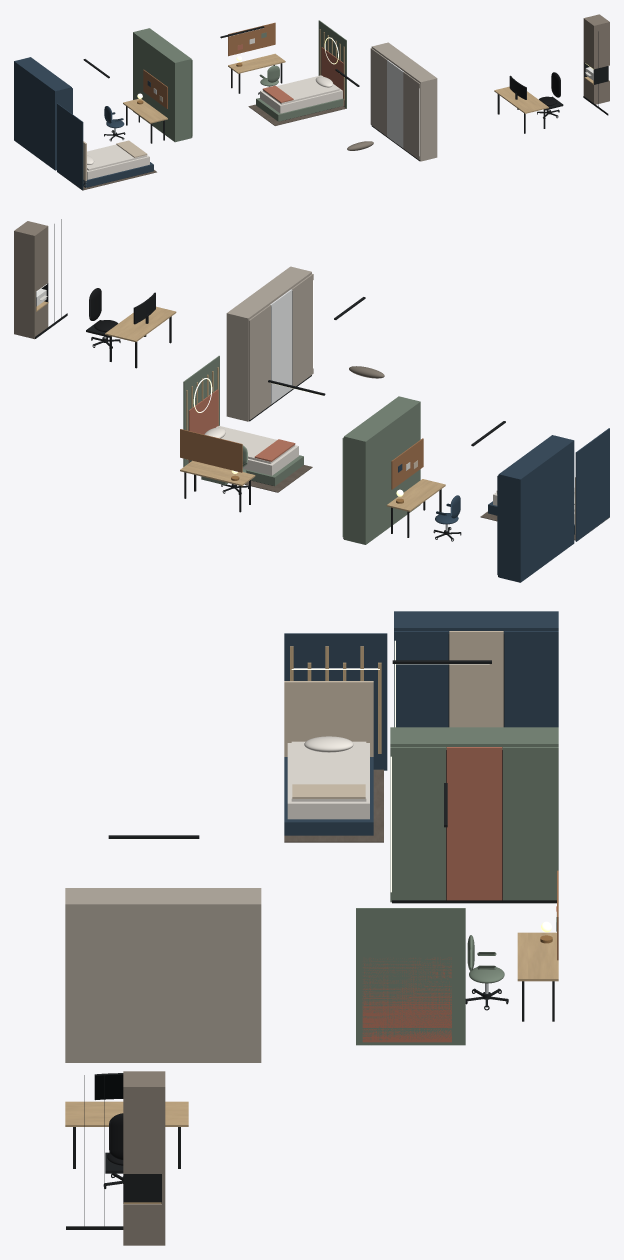
The model's file is dom-interior-03.glb.
3 views of the same model, one above another, from view 1: azimuth 30°, elevation 25°; view 2: azimuth 150°, elevation 25°; view 3: azimuth 270°, elevation 25° (orthographic). The views are drawn at different scales.
Visible parts, largest first — view 1: DOM_01062 | CHILD-BEDROOM-110-FITOUT-2026-08-24 · WARDROBE ·, DOM_01008 | CHILD-BEDROOM-109-FITOUT-2026-08-24 · WARDROBE ·, DOM_00981 | BEDROOM-FITOUT-2026-08-24 · WARDROBE · celosteno, DOM_01046 | CHILD-BEDROOM-110-FITOUT-2026-08-24 · FEATURE · , DOM_00983 | BEDROOM-FITOUT-2026-08-24 · WARDROBE · posuvný p, DOM_00986 | BEDROOM-FITOUT-2026-08-24 · WARDROBE · posuvný p, DOM_00984 | BEDROOM-FITOUT-2026-08-24 · WARDROBE · posuvný p, DOM_01102 | OFFICE-FITOUT-2026-08-29 · CABINET · horný blok , DOM_01040 | CHILD-BEDROOM-109-FITOUT-2026-08-24 · DESK · veľ, DOM_00991 | CHILD-BEDROOM-109-FITOUT-2026-08-24 · FEATURE · , DOM_01005 | CHILD-BEDROOM-109-FITOUT-2026-08-24 · BED · poko, DOM_01003 | CHILD-BEDROOM-109-FITOUT-2026-08-24 · BED · matr (+14 smaller); view 2: DOM_01062 | CHILD-BEDROOM-110-FITOUT-2026-08-24 · WARDROBE ·, DOM_01008 | CHILD-BEDROOM-109-FITOUT-2026-08-24 · WARDROBE ·, DOM_00981 | BEDROOM-FITOUT-2026-08-24 · WARDROBE · celosteno, DOM_01046 | CHILD-BEDROOM-110-FITOUT-2026-08-24 · FEATURE · , DOM_00986 | BEDROOM-FITOUT-2026-08-24 · WARDROBE · posuvný p, DOM_01103 | OFFICE-FITOUT-2026-08-29 · CABINET · severný uko, DOM_00984 | BEDROOM-FITOUT-2026-08-24 · WARDROBE · posuvný p, DOM_00983 | BEDROOM-FITOUT-2026-08-24 · WARDROBE · posuvný p, DOM_01040 | CHILD-BEDROOM-109-FITOUT-2026-08-24 · DESK · veľ, DOM_00991 | CHILD-BEDROOM-109-FITOUT-2026-08-24 · FEATURE · , DOM_01116 | OFFICE-FITOUT-2026-08-29 · DESK · subtílna dubov, DOM_01102 | OFFICE-FITOUT-2026-08-29 · CABINET · horný blok  (+7 smaller); view 3: DOM_00981 | BEDROOM-FITOUT-2026-08-24 · WARDROBE · celosteno, DOM_00991 | CHILD-BEDROOM-109-FITOUT-2026-08-24 · FEATURE · , DOM_01010 | CHILD-BEDROOM-109-FITOUT-2026-08-24 · WARDROBE ·, DOM_01012 | CHILD-BEDROOM-109-FITOUT-2026-08-24 · WARDROBE ·, DOM_01009 | CHILD-BEDROOM-109-FITOUT-2026-08-24 · WARDROBE ·, DOM_01046 | CHILD-BEDROOM-110-FITOUT-2026-08-24 · FEATURE · , DOM_01058 | CHILD-BEDROOM-110-FITOUT-2026-08-24 · BED · vyso, DOM_01004 | CHILD-BEDROOM-109-FITOUT-2026-08-24 · BED · vyso, DOM_01066 | CHILD-BEDROOM-110-FITOUT-2026-08-24 · WARDROBE ·, DOM_01064 | CHILD-BEDROOM-110-FITOUT-2026-08-24 · WARDROBE ·, DOM_01063 | CHILD-BEDROOM-110-FITOUT-2026-08-24 · WARDROBE ·, DOM_01102 | OFFICE-FITOUT-2026-08-29 · CABINET · horný blok  (+11 smaller).
Part boxes in pixels (<box>): DOM_01062 | CHILD-BEDROOM-110-FITOUT-2026-08-24 · WARDROBE ·: <box>14,57,71,170</box>; DOM_01008 | CHILD-BEDROOM-109-FITOUT-2026-08-24 · WARDROBE ·: <box>133,28,191,142</box>; DOM_00981 | BEDROOM-FITOUT-2026-08-24 · WARDROBE · celosteno: <box>371,42,437,161</box>; DOM_01046 | CHILD-BEDROOM-110-FITOUT-2026-08-24 · FEATURE · : <box>57,103,83,190</box>; DOM_00983 | BEDROOM-FITOUT-2026-08-24 · WARDROBE · posuvný p: <box>403,72,420,160</box>; DOM_00986 | BEDROOM-FITOUT-2026-08-24 · WARDROBE · posuvný p: <box>370,48,387,136</box>; DOM_00984 | BEDROOM-FITOUT-2026-08-24 · WARDROBE · posuvný p: <box>387,60,403,147</box>; DOM_01102 | OFFICE-FITOUT-2026-08-29 · CABINET · horný blok : <box>584,15,609,69</box>; DOM_01040 | CHILD-BEDROOM-109-FITOUT-2026-08-24 · DESK · veľ: <box>228,22,275,56</box>; DOM_00991 | CHILD-BEDROOM-109-FITOUT-2026-08-24 · FEATURE · : <box>318,20,346,108</box>; DOM_01005 | CHILD-BEDROOM-109-FITOUT-2026-08-24 · BED · poko: <box>263,75,339,104</box>; DOM_01003 | CHILD-BEDROOM-109-FITOUT-2026-08-24 · BED · matr: <box>260,76,342,113</box>; DOM_01062 | CHILD-BEDROOM-110-FITOUT-2026-08-24 · WARDROBE ·: <box>498,435,574,582</box>; DOM_01008 | CHILD-BEDROOM-109-FITOUT-2026-08-24 · WARDROBE ·: <box>344,396,420,544</box>; DOM_00981 | BEDROOM-FITOUT-2026-08-24 · WARDROBE · celosteno: <box>226,266,311,421</box>; DOM_01046 | CHILD-BEDROOM-110-FITOUT-2026-08-24 · FEATURE · : <box>575,428,609,541</box>; DOM_00986 | BEDROOM-FITOUT-2026-08-24 · WARDROBE · posuvný p: <box>248,305,270,420</box>; DOM_01103 | OFFICE-FITOUT-2026-08-29 · CABINET · severný uko: <box>14,230,35,339</box>; DOM_00984 | BEDROOM-FITOUT-2026-08-24 · WARDROBE · posuvný p: <box>270,289,292,404</box>; DOM_00983 | BEDROOM-FITOUT-2026-08-24 · WARDROBE · posuvný p: <box>291,274,313,388</box>; DOM_01040 | CHILD-BEDROOM-109-FITOUT-2026-08-24 · DESK · veľ: <box>180,429,242,472</box>; DOM_00991 | CHILD-BEDROOM-109-FITOUT-2026-08-24 · FEATURE · : <box>183,355,219,466</box>; DOM_01116 | OFFICE-FITOUT-2026-08-29 · DESK · subtílna dubov: <box>105,306,176,342</box>; DOM_01102 | OFFICE-FITOUT-2026-08-29 · CABINET · horný blok : <box>15,221,48,291</box>; DOM_00981 | BEDROOM-FITOUT-2026-08-24 · WARDROBE · celosteno: <box>65,888,261,1062</box>; DOM_00991 | CHILD-BEDROOM-109-FITOUT-2026-08-24 · FEATURE · : <box>356,908,465,1045</box>; DOM_01010 | CHILD-BEDROOM-109-FITOUT-2026-08-24 · WARDROBE ·: <box>446,747,502,900</box>; DOM_01012 | CHILD-BEDROOM-109-FITOUT-2026-08-24 · WARDROBE ·: <box>503,747,558,900</box>; DOM_01009 | CHILD-BEDROOM-109-FITOUT-2026-08-24 · WARDROBE ·: <box>390,747,445,900</box>; DOM_01046 | CHILD-BEDROOM-110-FITOUT-2026-08-24 · FEATURE · : <box>284,633,387,770</box>; DOM_01058 | CHILD-BEDROOM-110-FITOUT-2026-08-24 · BED · vyso: <box>284,681,373,756</box>; DOM_01004 | CHILD-BEDROOM-109-FITOUT-2026-08-24 · BED · vyso: <box>362,957,451,1042</box>; DOM_01066 | CHILD-BEDROOM-110-FITOUT-2026-08-24 · WARDROBE ·: <box>504,631,558,727</box>; DOM_01064 | CHILD-BEDROOM-110-FITOUT-2026-08-24 · WARDROBE ·: <box>449,631,503,727</box>; DOM_01063 | CHILD-BEDROOM-110-FITOUT-2026-08-24 · WARDROBE ·: <box>394,631,448,727</box>; DOM_01102 | OFFICE-FITOUT-2026-08-29 · CABINET · horný blok : <box>123,1071,161,1173</box>.
Size of the model in its own units: 16.4 by 2.59 by 7.2.
20 materials, 2 textured.
